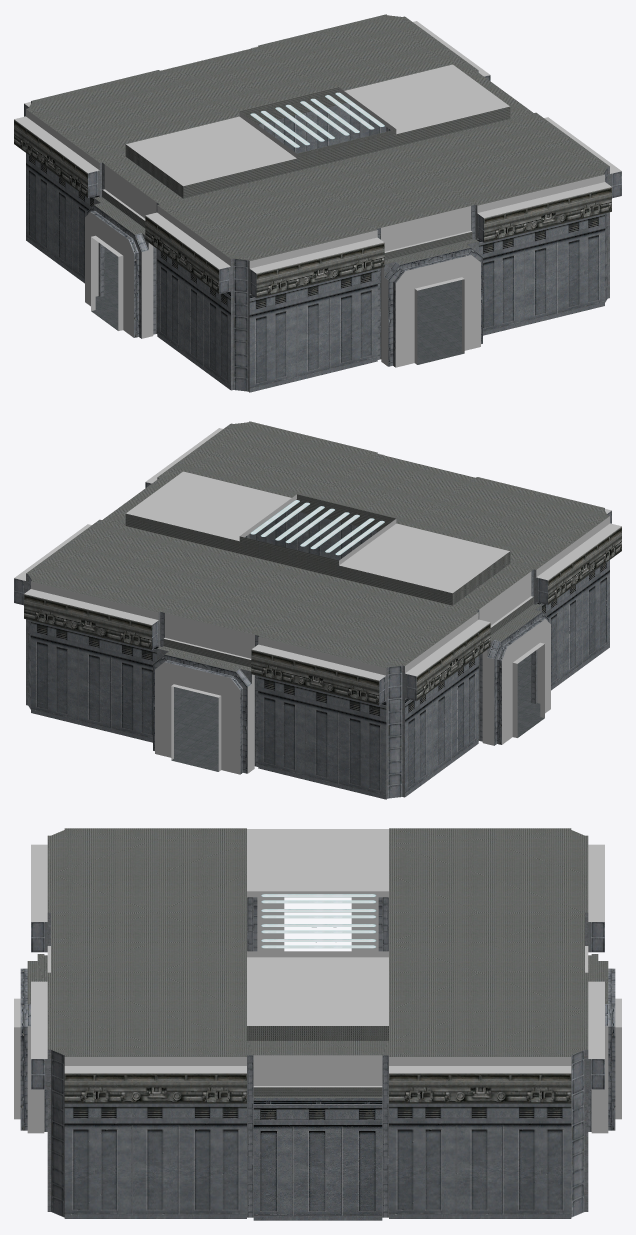
The model's file is poi_all_impl_bunker_warren_s01_r55_smallroom55_mesh_r55.fbx.
3 renders of one model, top to bottom at view 1: azimuth 30°, elevation 25°; view 2: azimuth 150°, elevation 25°; view 3: azimuth 270°, elevation 25°, orthographic. The views are drawn at different scales.
Parts seen in each view (by area): view 1: mesh_node; view 2: mesh_node; view 3: mesh_node.
Part boxes in pixels (x1,y1,x2,y2): mesh_node: (14,14,621,392); mesh_node: (14,421,621,799); mesh_node: (14,828,621,1220).
Size of the model in its own units: 17.5 by 6 by 18.
